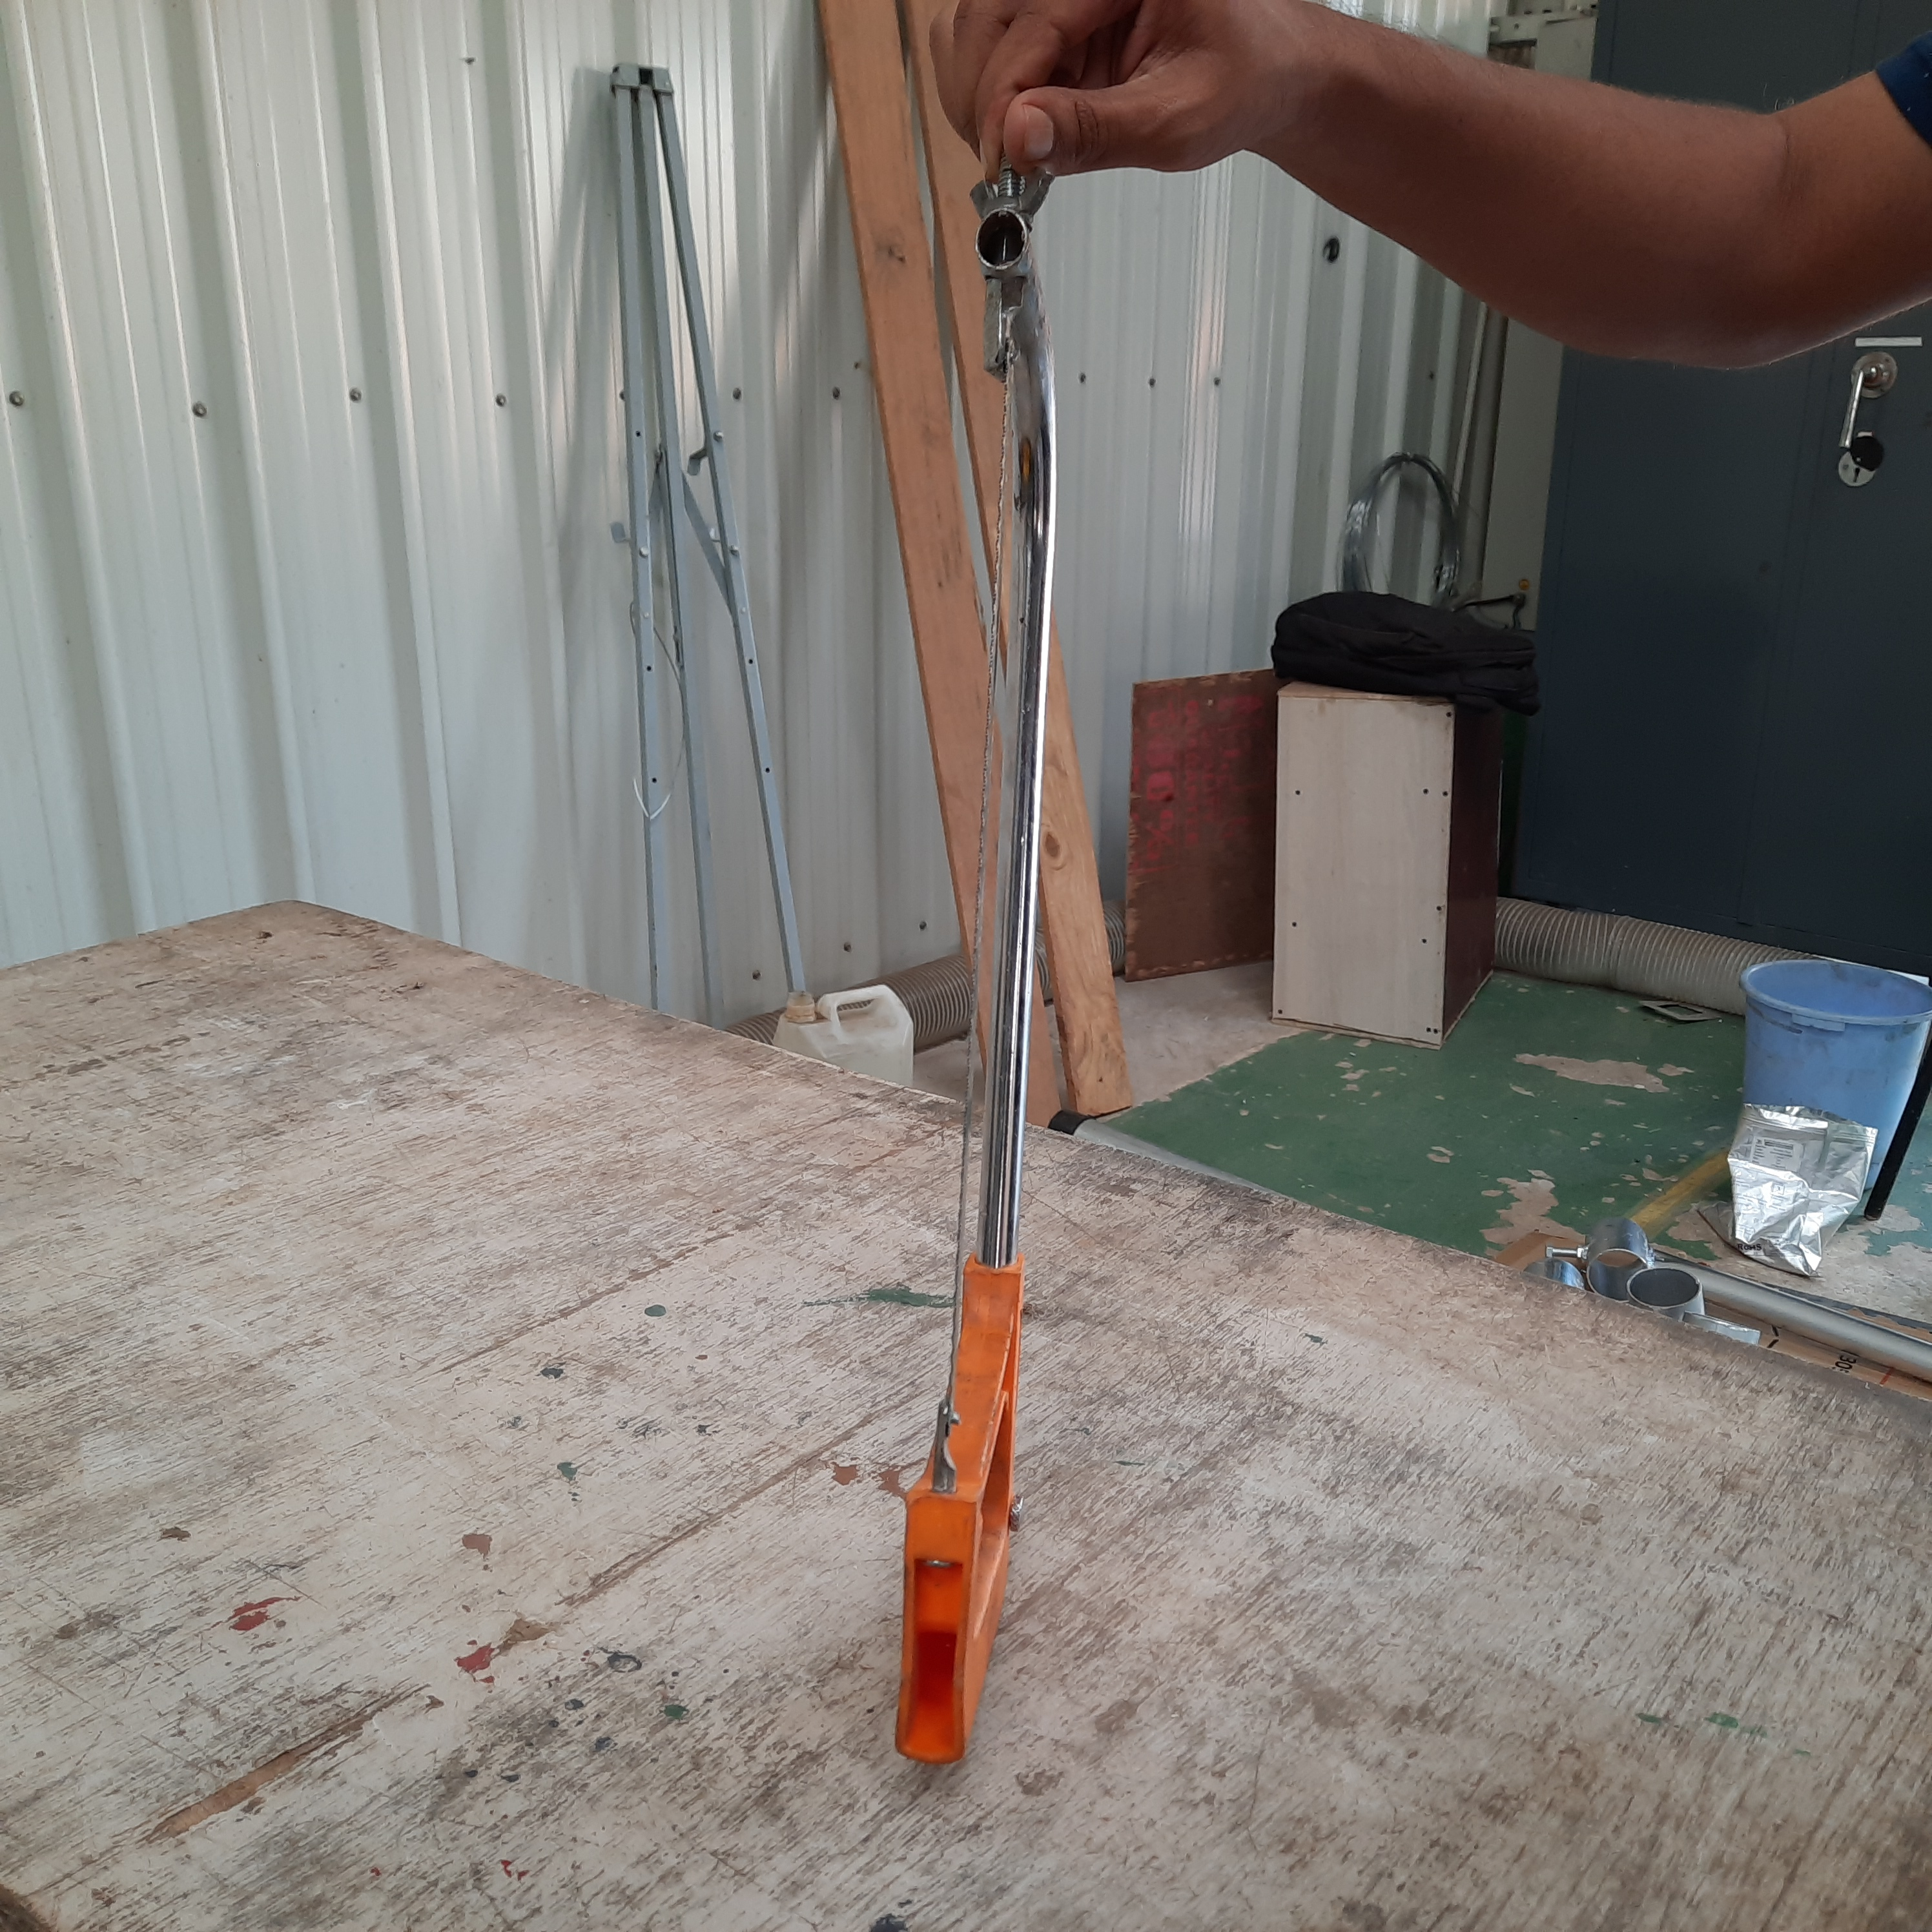Hexaframe: (886, 143, 1104, 1787)
